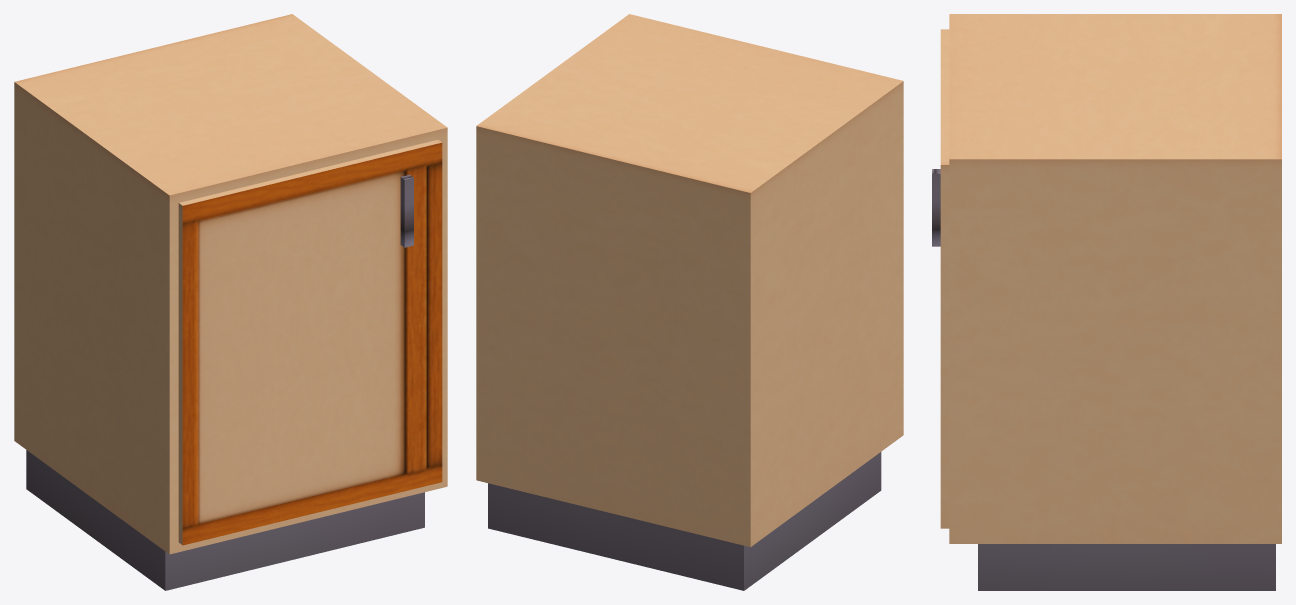
Rendered from Kitchen_Cabinet_Base.fbx.
3 views of the same model, side by side, from view 1: azimuth 30°, elevation 25°; view 2: azimuth 150°, elevation 25°; view 3: azimuth 270°, elevation 25° (orthographic). The views are drawn at different scales.
Parts seen in each view (by area): view 1: Kitchen_Cabinet_Base; view 2: Kitchen_Cabinet_Base; view 3: Kitchen_Cabinet_Base.
Part boxes in pixels (<box>): Kitchen_Cabinet_Base: <box>14,14,447,590</box>; Kitchen_Cabinet_Base: <box>476,14,903,590</box>; Kitchen_Cabinet_Base: <box>932,14,1281,590</box>.
Bounding box in the file's own units: 0.6 × 0.84 × 0.61.
